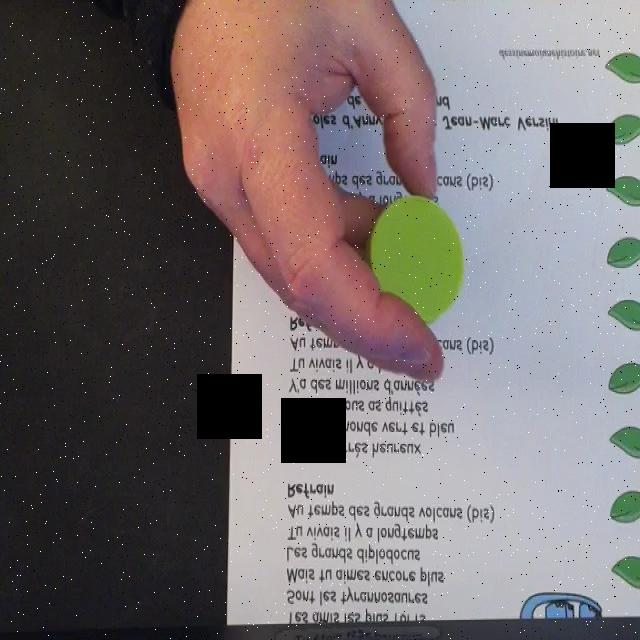round: (368, 194, 464, 324)
